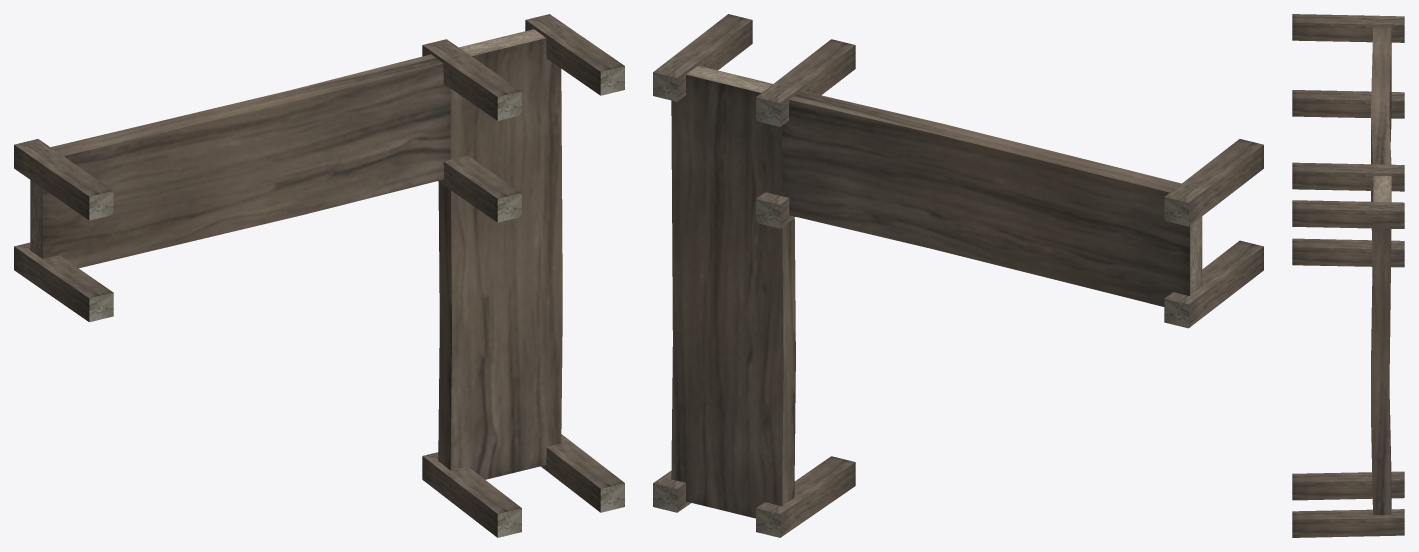
Rendered from Counter_Corner_R_A.fbx.
3 renders of one model, left to right at view 1: azimuth 30°, elevation 25°; view 2: azimuth 150°, elevation 25°; view 3: azimuth 270°, elevation 25°, orthographic. The views are drawn at different scales.
Visible parts, largest first — view 1: Counter_Corner_R_A; view 2: Counter_Corner_R_A; view 3: Counter_Corner_R_A.
Boxes of the visible parts, x1,y1,x2,y2 form: Counter_Corner_R_A: [14, 14, 624, 537]; Counter_Corner_R_A: [653, 14, 1263, 537]; Counter_Corner_R_A: [1292, 14, 1404, 537].
Size of the model in its own units: 4.29 by 3.37 by 1.04.
